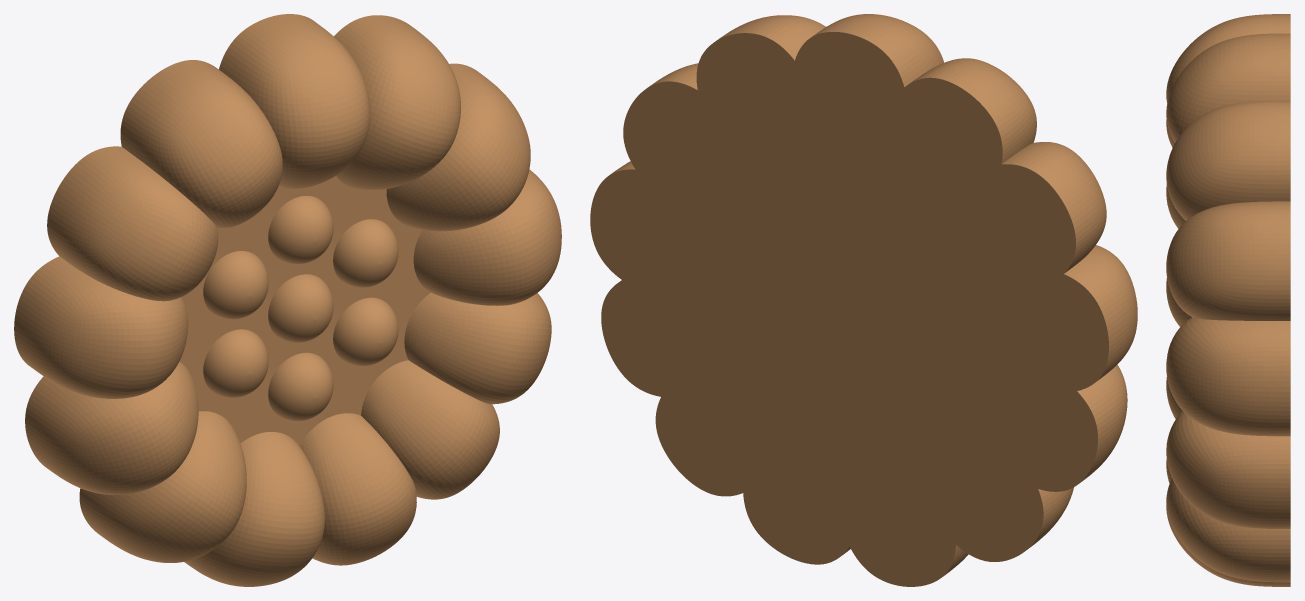
File: yakgwa.glb
3 renders of one model, left to right at view 1: azimuth 30°, elevation 25°; view 2: azimuth 150°, elevation 25°; view 3: azimuth 270°, elevation 25°, orthographic. The views are drawn at different scales.
Visible parts, largest first — view 1: Cube.2564, Circle.331, Circle.330, Circle.329; view 2: Cube.2564, Circle.331; view 3: Cube.2564.
Boxes of the visible parts, x1,y1,x2,y2 form: Cube.2564: (14,14,561,586); Circle.331: (179,176,430,445); Circle.330: (203,196,398,421); Circle.329: (268,274,333,342); Cube.2564: (590,14,1137,586); Circle.331: (714,161,983,443); Cube.2564: (1166,14,1290,586).
Size of the model in its own units: 15.97 by 15.89 by 3.46.
